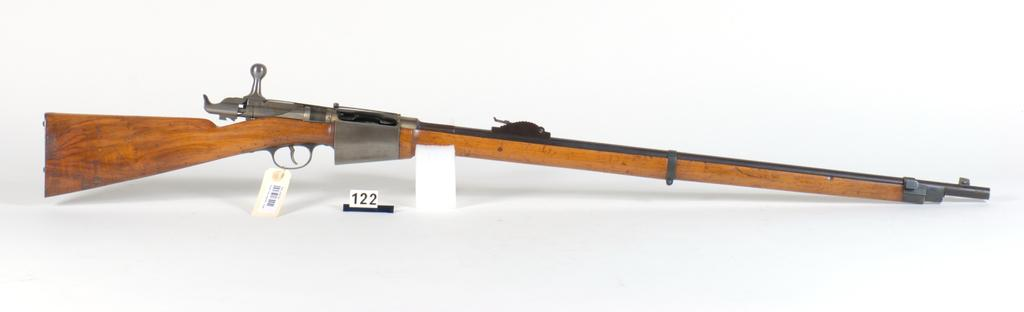Rifle: (46, 66, 985, 197)
